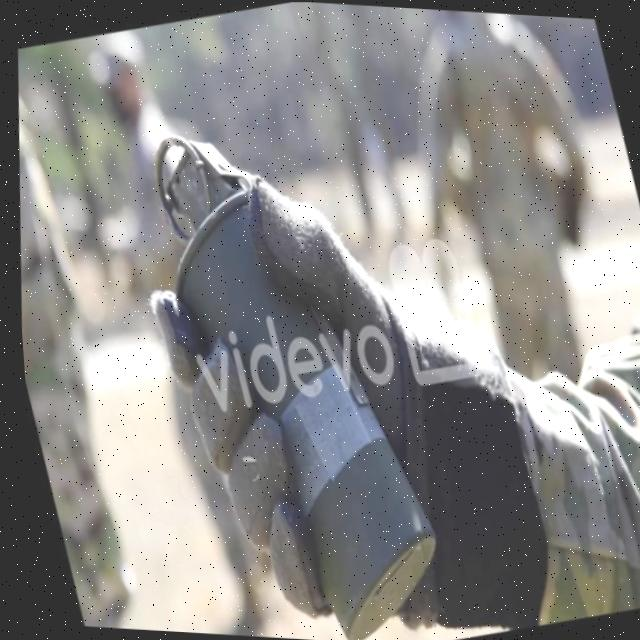grenade: (92, 91, 473, 640)
